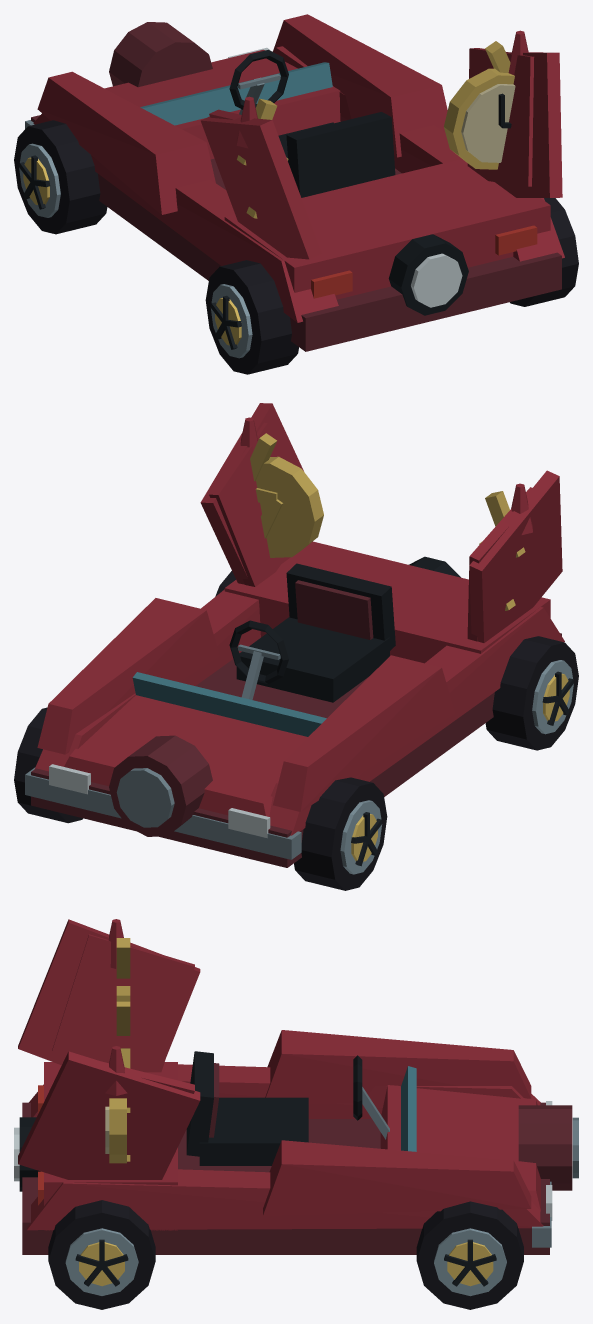
The model's file is kart.glb.
The picture shows the model from 3 angles, top to bottom: view 1: azimuth 30°, elevation 25°; view 2: azimuth 150°, elevation 25°; view 3: azimuth 270°, elevation 25°; orthographic projection. The views are drawn at different scales.
Visible parts, largest first — view 1: identity-batmobile-batmobile-turbine-nose, identity-batmobile-driver-cockpit, wheel-rear-left, wheel-front-left, identity-batmobile-motif-clock, identity-batmobile-motif-bat-fins, wheel-rear-right, identity-batmobile-motif-electric; view 2: identity-batmobile-batmobile-turbine-nose, identity-batmobile-driver-cockpit, wheel-front-left, wheel-rear-left, identity-batmobile-motif-bat-fins, identity-batmobile-motif-clock, identity-batmobile-motif-electric, wheel-front-right; view 3: identity-batmobile-batmobile-turbine-nose, identity-batmobile-motif-bat-fins, identity-batmobile-driver-cockpit, wheel-rear-right, wheel-front-right, identity-batmobile-motif-electric, identity-batmobile-motif-clock.
Part boxes in pixels (<box>): identity-batmobile-batmobile-turbine-nose: <box>25,14,564,351</box>; identity-batmobile-driver-cockpit: <box>229,49,395,197</box>; wheel-rear-left: <box>205,260,298,374</box>; wheel-front-left: <box>14,120,107,234</box>; identity-batmobile-motif-clock: <box>444,68,515,169</box>; identity-batmobile-motif-bat-fins: <box>209,30,534,186</box>; wheel-rear-right: <box>510,198,578,306</box>; identity-batmobile-motif-electric: <box>237,41,510,218</box>; identity-batmobile-batmobile-turbine-nose: <box>25,403,564,867</box>; identity-batmobile-driver-cockpit: <box>229,563,395,702</box>; wheel-front-left: <box>294,777,387,890</box>; wheel-rear-left: <box>485,636,578,750</box>; identity-batmobile-motif-bat-fins: <box>209,417,532,641</box>; identity-batmobile-motif-clock: <box>256,456,323,557</box>; identity-batmobile-motif-electric: <box>250,433,525,610</box>; wheel-front-right: <box>14,707,82,823</box>; identity-batmobile-batmobile-turbine-nose: <box>14,919,578,1254</box>; identity-batmobile-motif-bat-fins: <box>52,919,194,1095</box>; identity-batmobile-driver-cockpit: <box>186,1051,389,1165</box>; wheel-rear-right: <box>48,1200,155,1309</box>; wheel-front-right: <box>416,1201,523,1309</box>; identity-batmobile-motif-electric: <box>116,938,130,1161</box>; identity-batmobile-motif-clock: <box>105,1098,126,1163</box>.
Size of the model in its own units: 2.09 by 1.55 by 3.16.
